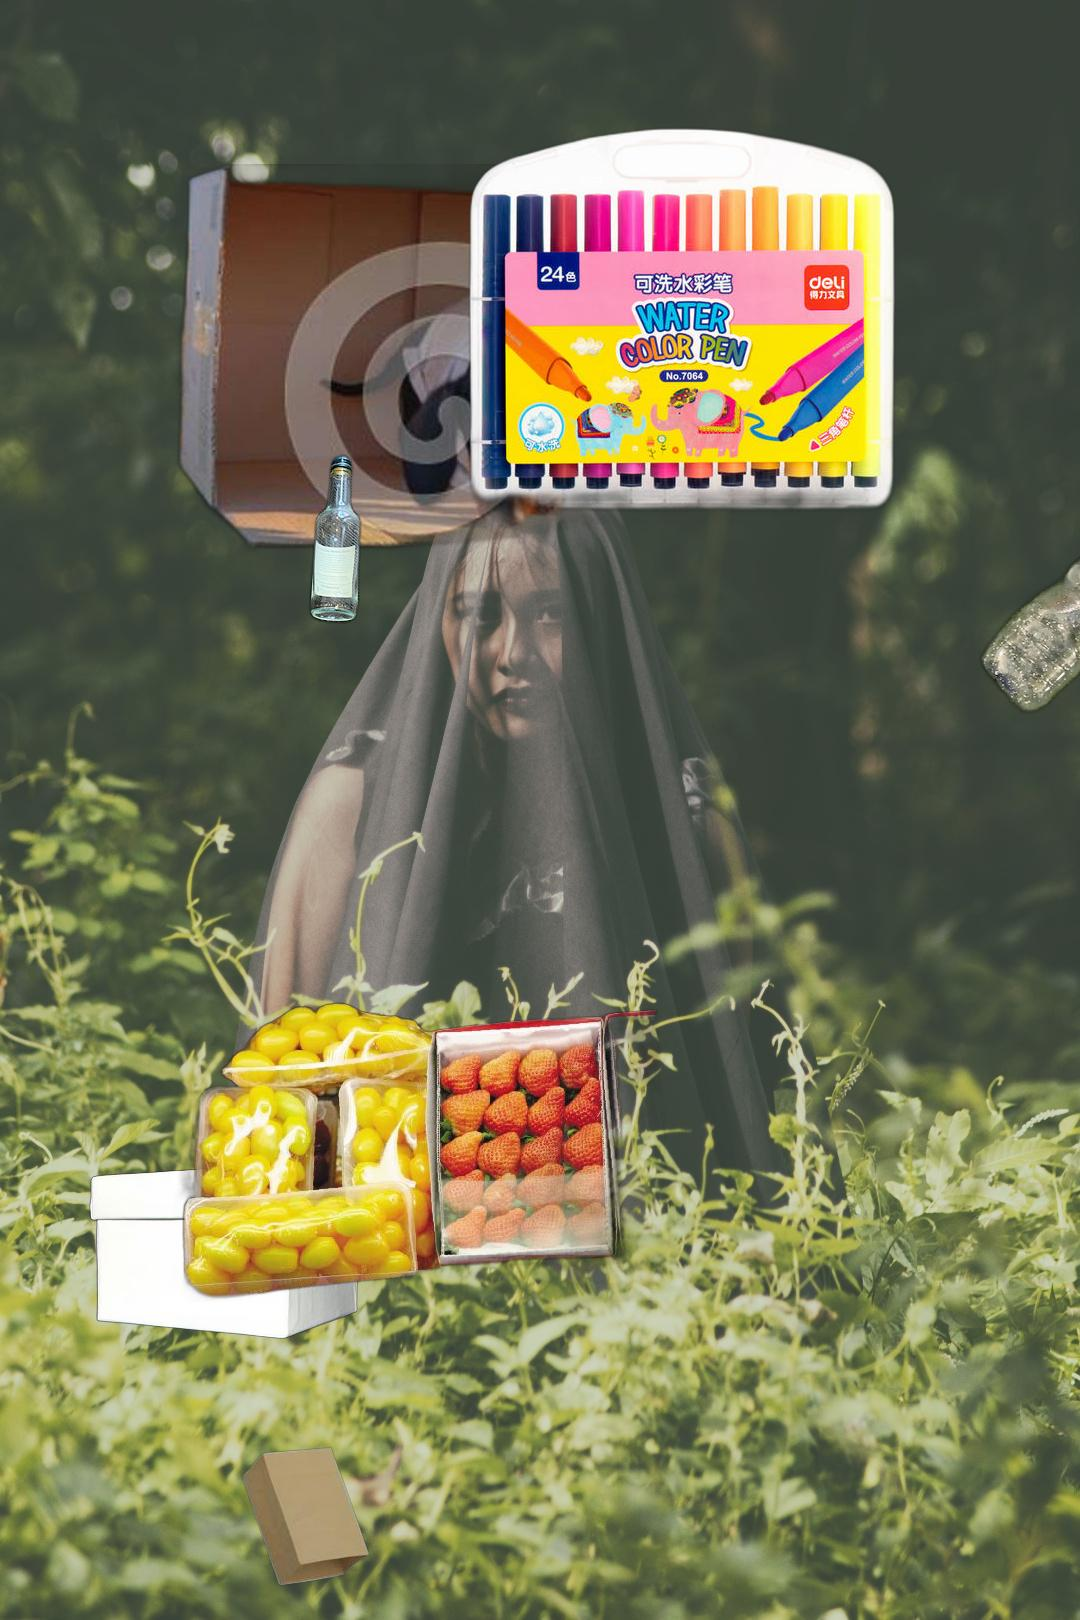biological: (168, 985, 667, 1302)
glass: (305, 450, 365, 628)
paper-bag: (241, 1446, 372, 1587)
penholder: (432, 124, 900, 545), (358, 1585, 968, 1620)
plastic-bottles: (976, 486, 1080, 720)
trashbox-cardboard: (151, 164, 796, 559), (87, 1161, 366, 1342)
